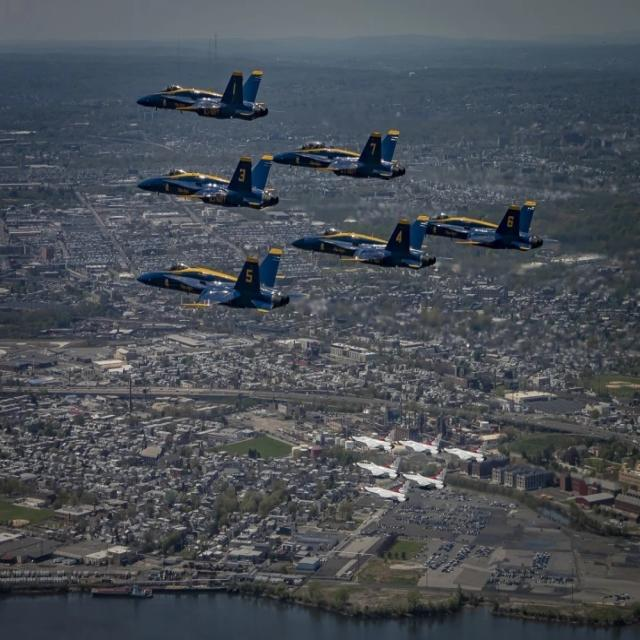MIL_Plane: (136, 248, 311, 314), (136, 154, 297, 212), (291, 215, 454, 270), (136, 38, 286, 90), (273, 128, 422, 180), (409, 200, 558, 252), (435, 438, 490, 464), (357, 478, 411, 504), (346, 426, 396, 452), (393, 431, 443, 457), (350, 456, 404, 480), (401, 465, 448, 491)
